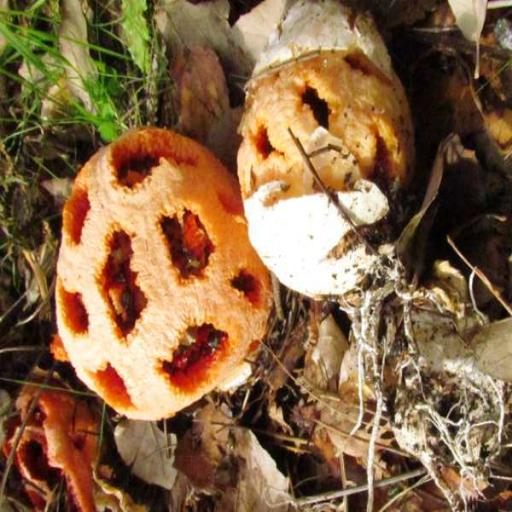Red Cage Fungus: (54, 127, 280, 430), (219, 0, 418, 304)
